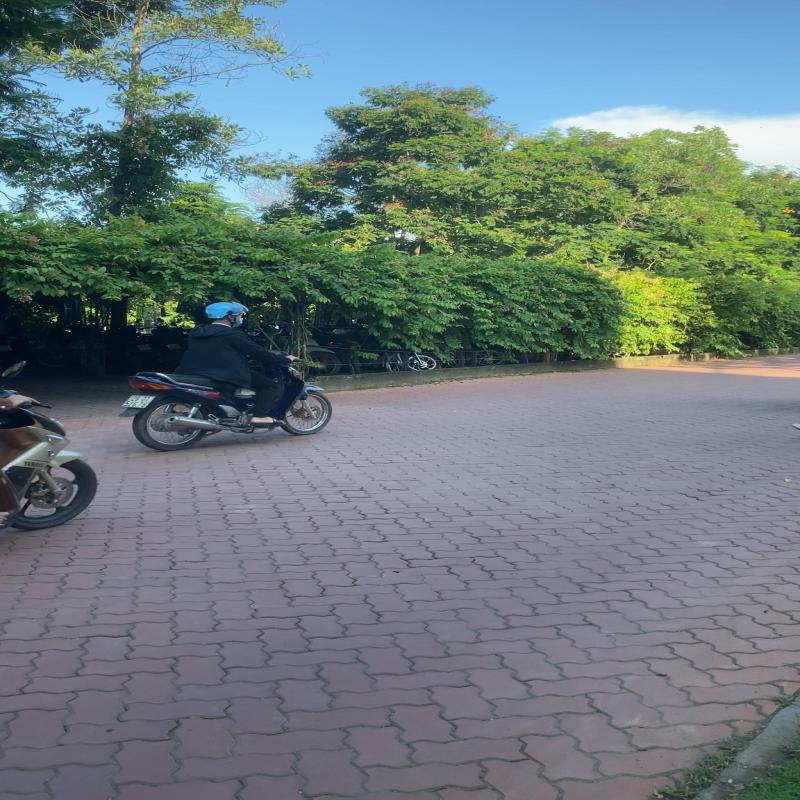helmet: (200, 301, 250, 327)
licenseplate: (120, 394, 156, 408)
motorcyclist: (114, 299, 336, 452)
